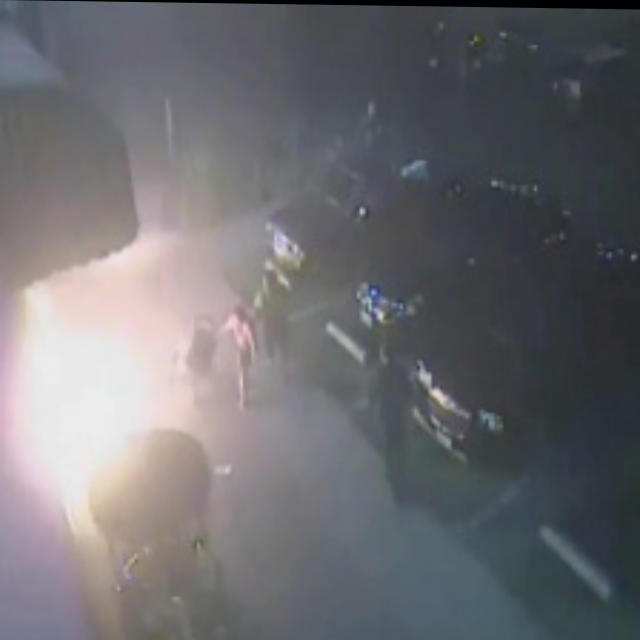fire: (17, 288, 159, 458)
smoke: (137, 2, 363, 269), (12, 131, 136, 273), (54, 3, 128, 135)
